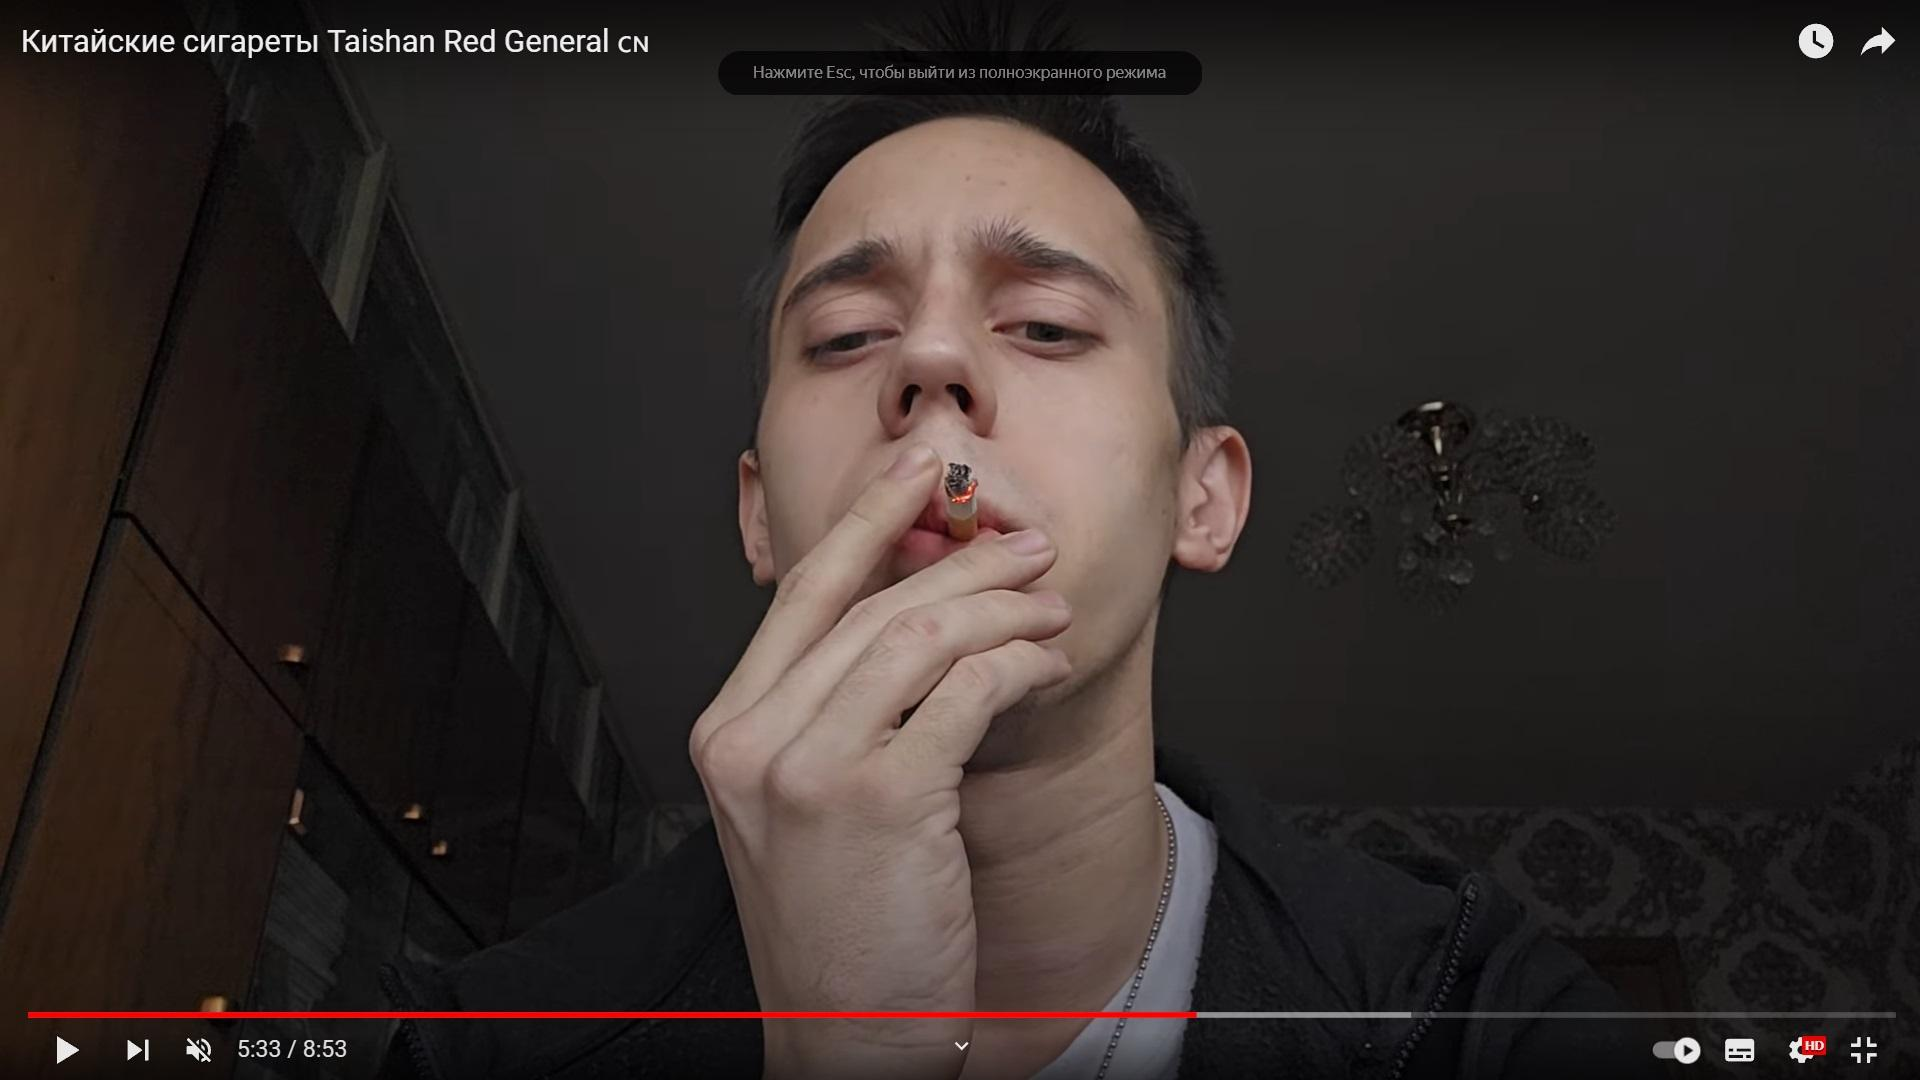cigarette: (945, 462, 978, 541)
